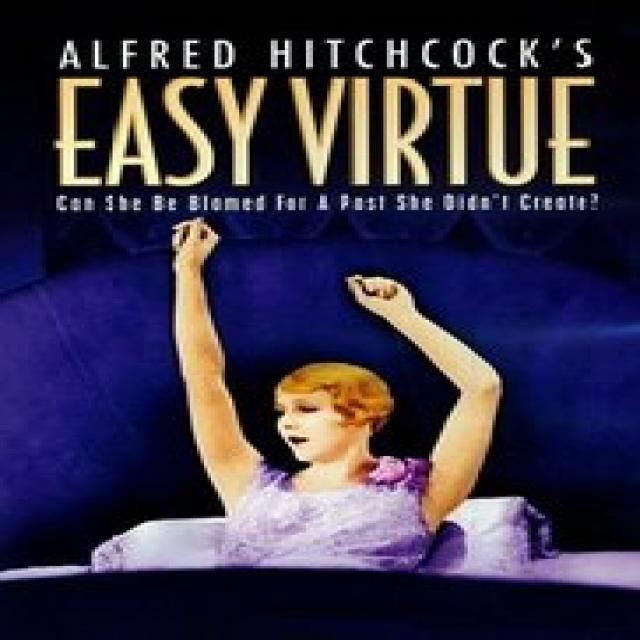movie-judul: (34, 27, 618, 219)
picture: (38, 220, 627, 618)
